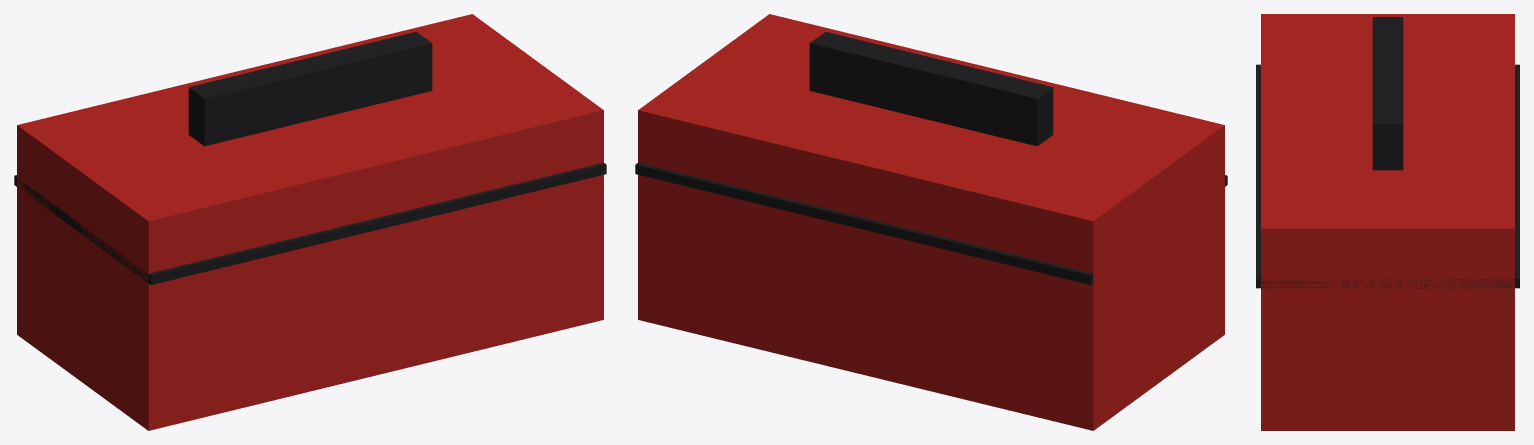
File: toolbox.glb
The picture shows the model from 3 angles, left to right: view 1: azimuth 30°, elevation 25°; view 2: azimuth 150°, elevation 25°; view 3: azimuth 270°, elevation 25°; orthographic projection. The views are drawn at different scales.
Parts seen in each view (by area): view 1: toolbox; view 2: toolbox; view 3: toolbox.
Boxes of the visible parts, box(x1,y1,x2,y2) form: toolbox: box(14, 14, 606, 430); toolbox: box(635, 14, 1227, 430); toolbox: box(1256, 14, 1519, 430).
Size of the model in its own units: 0.5 by 0.275 by 0.26.
